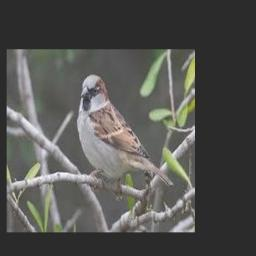Sparrow: (77, 74, 173, 187)
